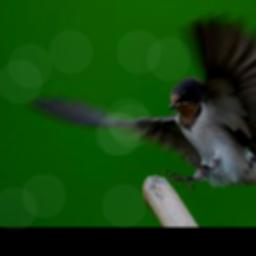Swallow: (31, 11, 256, 189)
